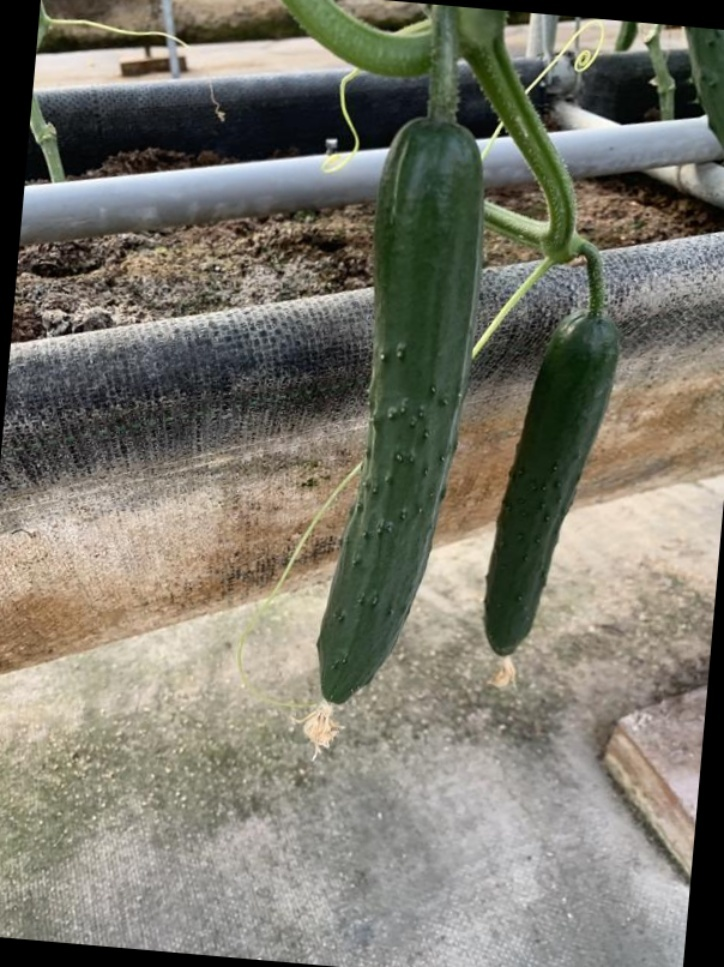mature: (285, 121, 498, 733), (475, 303, 625, 671)
